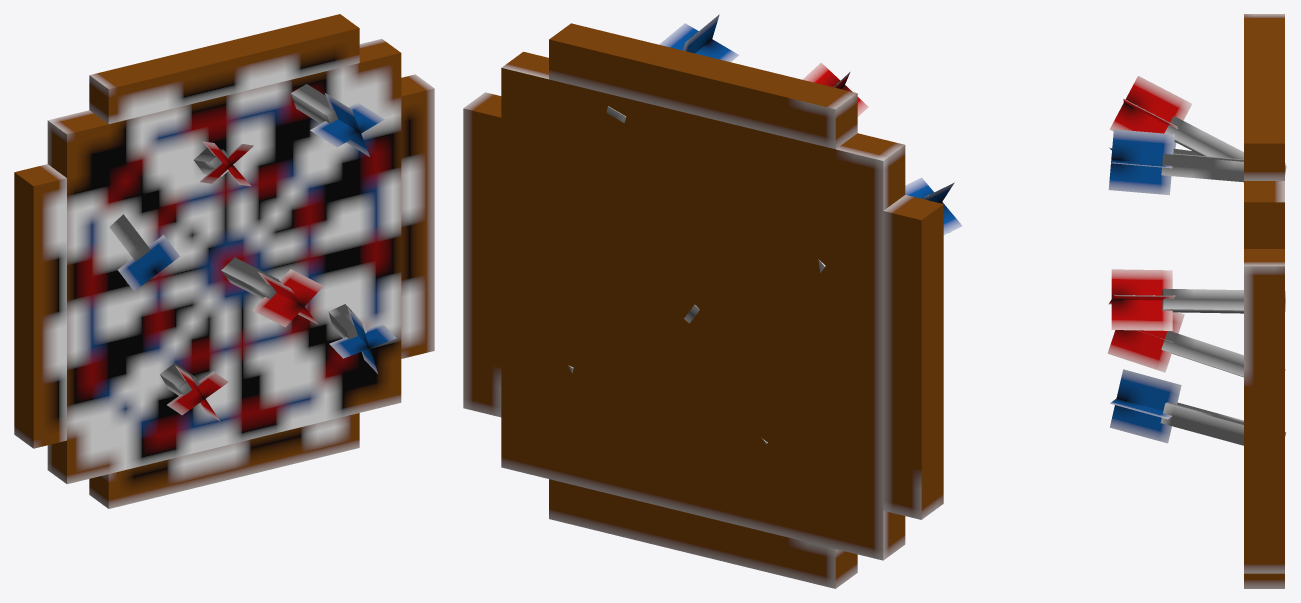
The model's file is dart_board.obj.
The picture shows the model from 3 angles, left to right: view 1: azimuth 30°, elevation 25°; view 2: azimuth 150°, elevation 25°; view 3: azimuth 270°, elevation 25°; orthographic projection. The views are drawn at different scales.
Parts seen in each view (by area): view 1: Board, Board4, Board2, Board5, Board3, Featherthingy2, Featherthingy4, Featherthingy6, arrow1red, arrow2blue, Featherthingy7, Featherthingy10 (+4 smaller); view 2: Board, Board4, Board2, Board3, Board5, Featherthingy6, Featherthingy4, Featherthingy12; view 3: Board3, Board2, Board, Featherthingy5, Featherthingy1, Feather_thingy_8, Featherthingy11, Featherthingy9, arrow3blue, arrow1red, arrow2blue, arrow2red (+3 smaller).
Part boxes in pixels (x1,y1,x2,y2): Board: (47, 39, 401, 484); Board4: (14, 164, 66, 448); Board2: (89, 14, 359, 123); Board5: (89, 413, 359, 508); Board3: (401, 74, 434, 358); Featherthingy2: (252, 269, 323, 327); Featherthingy4: (118, 235, 179, 291); Featherthingy6: (310, 102, 384, 147); arrow1red: (221, 257, 281, 299); arrow2blue: (291, 84, 337, 123); Featherthingy7: (329, 323, 396, 358); Featherthingy10: (167, 371, 228, 415); Board: (501, 51, 905, 560); Board4: (883, 195, 943, 519); Board2: (549, 23, 857, 149); Board3: (463, 92, 501, 417); Board5: (549, 479, 857, 588); Featherthingy6: (659, 23, 738, 62); Featherthingy4: (905, 177, 962, 234); Featherthingy12: (802, 62, 868, 116); Board3: (1244, 249, 1284, 544); Board2: (1244, 14, 1284, 180); Board: (1244, 181, 1284, 573); Featherthingy5: (1108, 129, 1174, 195); Featherthingy1: (1111, 269, 1172, 330); Feather_thingy_8: (1110, 369, 1181, 443); Featherthingy11: (1109, 76, 1191, 133); Featherthingy9: (1107, 312, 1184, 372); arrow3blue: (1160, 402, 1286, 445); arrow1red: (1162, 288, 1285, 313); arrow2blue: (1161, 153, 1285, 182); arrow2red: (1161, 331, 1285, 377).
Size of the model in its own units: 0.9 by 0.95 by 0.5406.
